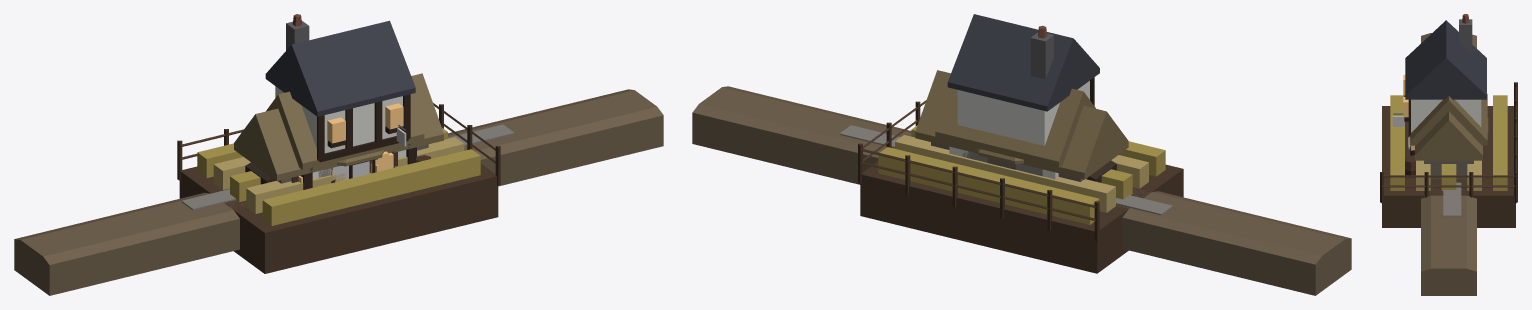
File: town.glb
The picture shows the model from 3 angles, left to right: view 1: azimuth 30°, elevation 25°; view 2: azimuth 150°, elevation 25°; view 3: azimuth 270°, elevation 25°; orthographic projection. The views are drawn at different scales.
Visible parts, largest first — view 1: lane@lane, townhouse@townhouse, field@field, grain@field, longhouse@longhouse, cottage@cottage, fence@field, townhouse windows@townhouse; view 2: lane@lane, field@field, townhouse@townhouse, grain@field, longhouse@longhouse, cottage@cottage, fence@field, roundhouse@roundhouse; view 3: townhouse@townhouse, lane@lane, field@field, grain@field, longhouse@longhouse, cottage@cottage, fence@field, longhouse close@longhouse!fine, townhouse windows@townhouse, townhouse sign@townhouse!fine, townhouse close@townhouse!fine.
Boxes of the visible parts, <box> form: lane@lane: <box>14,89,663,295</box>; townhouse@townhouse: <box>265,20,415,177</box>; field@field: <box>179,163,498,273</box>; grain@field: <box>197,128,480,225</box>; longhouse@longhouse: <box>234,73,443,184</box>; cottage@cottage: <box>266,91,424,189</box>; fence@field: <box>177,103,500,185</box>; townhouse windows@townhouse: <box>327,103,403,169</box>; lane@lane: <box>692,86,1351,295</box>; field@field: <box>860,161,1183,273</box>; townhouse@townhouse: <box>947,14,1099,176</box>; grain@field: <box>878,125,1165,224</box>; longhouse@longhouse: <box>915,70,1128,182</box>; cottage@cottage: <box>935,88,1095,179</box>; fence@field: <box>858,100,1099,242</box>; roundhouse@roundhouse: <box>976,148,1023,169</box>; townhouse@townhouse: <box>1405,19,1486,135</box>; lane@lane: <box>1421,33,1476,295</box>; field@field: <box>1382,106,1515,227</box>; grain@field: <box>1390,95,1507,190</box>; longhouse@longhouse: <box>1415,112,1482,178</box>; cottage@cottage: <box>1410,94,1487,145</box>; fence@field: <box>1380,82,1517,203</box>; longhouse close@longhouse!fine: <box>1405,157,1415,175</box>; townhouse windows@townhouse: <box>1403,75,1408,117</box>; townhouse sign@townhouse!fine: <box>1392,116,1404,126</box>; townhouse close@townhouse!fine: <box>1393,14,1469,149</box>.
Bounding box in the file's own units: 10 × 3.09 × 2.47.
